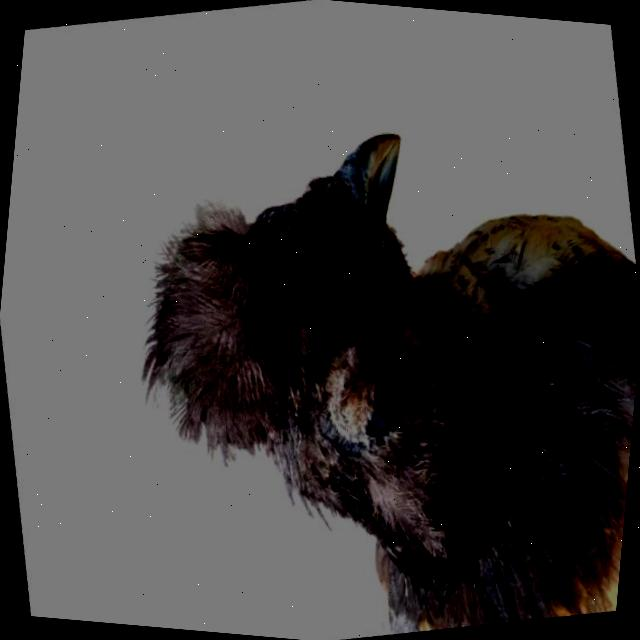Coryza: (267, 255, 387, 402)
